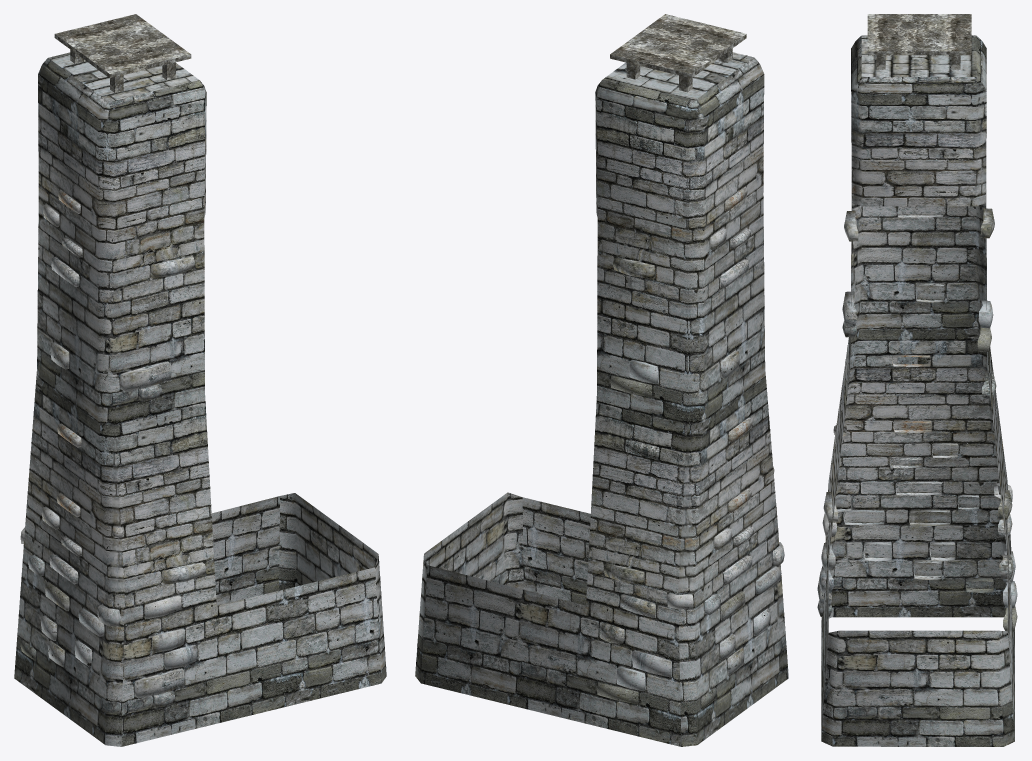
File: cabinExteriorFireplace_01_LOD1.FBX
3 views of the same model, side by side, from view 1: azimuth 30°, elevation 25°; view 2: azimuth 150°, elevation 25°; view 3: azimuth 270°, elevation 25° (orthographic). The views are drawn at different scales.
Visible parts, largest first — view 1: cabinExteriorFireplace_01_LOD1; view 2: cabinExteriorFireplace_01_LOD1; view 3: cabinExteriorFireplace_01_LOD1.
Part boxes in pixels (bbox=[...]): cabinExteriorFireplace_01_LOD1: bbox=[14, 14, 386, 746]; cabinExteriorFireplace_01_LOD1: bbox=[415, 14, 788, 746]; cabinExteriorFireplace_01_LOD1: bbox=[817, 14, 1017, 746].
Bounding box in the file's own units: 21.17 × 46.57 × 13.76.
2 materials, 2 textured.
